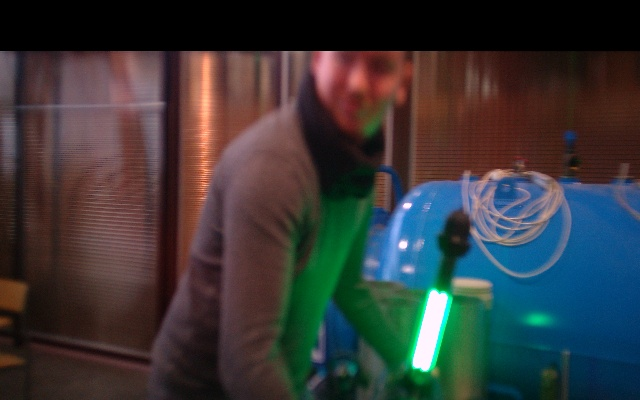green: (409, 288, 452, 373)
